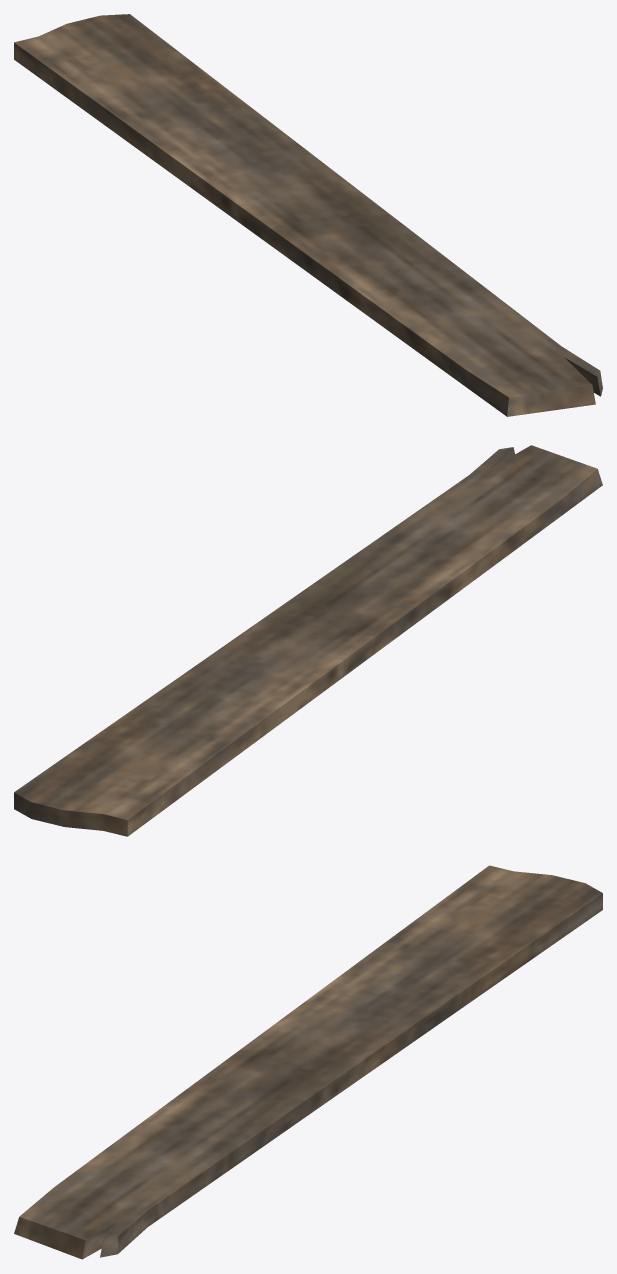
File: Planche2.glb
The picture shows the model from 3 angles, top to bottom: view 1: azimuth 30°, elevation 25°; view 2: azimuth 150°, elevation 25°; view 3: azimuth 330°, elevation 25°; orthographic projection. The views are drawn at different scales.
Visible parts, largest first — view 1: plank_02_Planks_SHD_0; view 2: plank_02_Planks_SHD_0; view 3: plank_02_Planks_SHD_0.
Boxes of the visible parts, <box> form: plank_02_Planks_SHD_0: <box>14,14,602,416</box>; plank_02_Planks_SHD_0: <box>14,445,602,836</box>; plank_02_Planks_SHD_0: <box>14,865,602,1259</box>.
Size of the model in its own units: 1.17 by 0.1669 by 8.83.
1 material, 1 textured.
